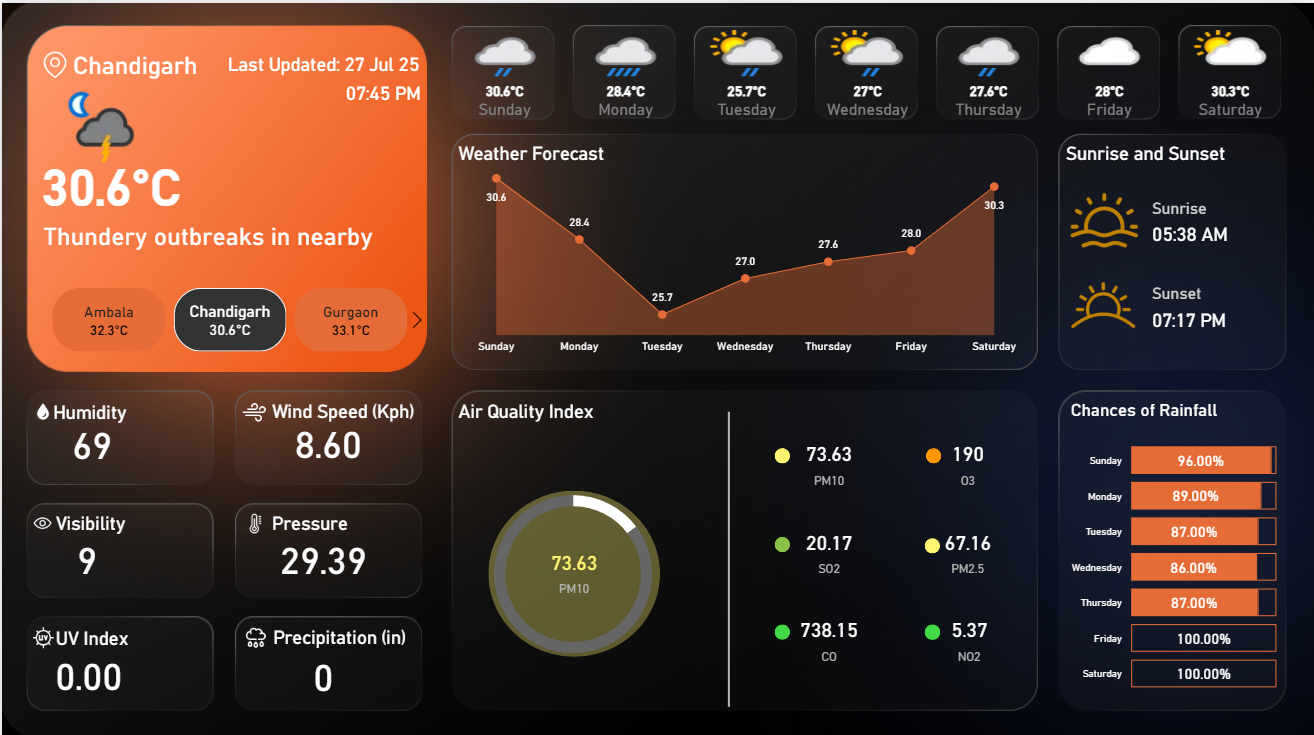

What the dashboard file says about the page in this screenshot:
{"tool":"powerbi","page":{"name":"Page 1","canvas":[1280,720],"ordinal":0},"visuals":[{"type":"shape","box":[39.5,149,143.9,61.1],"z":0},{"type":"shape","box":[40.1,210,355.4,35.7],"z":1000},{"type":"shape","box":[69.3,42.5,148.2,35.7],"z":2000},{"type":"image","box":[34.3,42.2,35,35.8],"z":3000},{"type":"shape","box":[143.4,42.5,263.5,35.7],"z":4000},{"type":"shape","box":[50,381.2,85.6,35],"z":5000},{"type":"image","box":[26.9,385.6,26.9,26.9],"z":6000},{"type":"shape","box":[263.1,380.6,143.2,35.5],"z":7000},{"type":"image","box":[229.2,381.2,33.8,35],"z":8000},{"type":"shape","box":[263.1,490,101.2,35],"z":9000},{"type":"image","box":[232.5,492.5,29.4,30],"z":10000},{"type":"shape","box":[51.9,490,101.2,35],"z":11000},{"type":"image","box":[23.8,492.5,32.5,30],"z":12000},{"type":"image","box":[23,604,34,31],"z":13000},{"type":"image","box":[229,603,36,34],"z":14000},{"type":"image","box":[1028.5,245.5,93.2,99.4],"z":15000},{"type":"image","box":[1037.3,172.5,75.5,79.3],"z":16000},{"type":"shape","box":[264.4,602.2,142,34.3],"z":17000},{"type":"shape","box":[52.9,602,101.2,35],"z":18000},{"type":"card","fields":{"Values":["Sum(CurrentData.current.humidity)"]},"box":[40.4,394.1,95.5,69.8],"z":19000},{"type":"card","fields":{"Values":["Sum(CurrentData.current.wind_kph)"]},"box":[247.2,392.9,142,71],"z":20000},{"type":"card","fields":{"Values":["Sum(CurrentData.current.pressure_in)"]},"box":[242.3,505.5,142,71],"z":21000},{"type":"card","fields":{"Values":["Sum(CurrentData.current.vis_km)"]},"box":[30.6,507.9,105.3,64.9],"z":22000},{"type":"card","fields":{"Values":["Sum(CurrentData.current.precip_in)"]},"box":[242.3,619.3,142,71],"z":23000},{"type":"card","fields":{"Values":["Sum(CurrentData.current.uv)"]},"box":[34.3,621.8,101.6,64.9],"z":24000},{"type":"shape","box":[144.4,71,264.4,35.5],"z":25000},{"type":"advancedSlicerVisual","fields":{"Values":["ForecastData_ByDay.DayName"]},"box":[430.8,0,831.1,131],"z":26000},{"type":"lineChart","title":"Weather Forecast","fields":{"Category":["ForecastData_ByDay.DayName"],"Y":["Sum(ForecastData_ByDay.forecast.forecastday.day.avgtemp_c)"]},"box":[444.6,146.5,560.5,203.8],"z":27000},{"type":"shape","box":[1037.3,128.4,211.5,36.5],"z":28000},{"type":"shape","box":[444.6,128.7,147.8,35.7],"z":29000},{"type":"shape","box":[1122,182.2,63.9,36.2],"z":30000},{"type":"shape","box":[1122,264.2,63.9,36.2],"z":31000},{"type":"shape","box":[1122,207.5,79.6,37.4],"z":32000},{"type":"shape","box":[1122,292,79.6,36.2],"z":33000},{"type":"hundredPercentStackedBarChart","title":"Chances of Rainfall","fields":{"Y":["Sum(ForecastData_ByDay.forecast.forecastday.day.daily_chance_of_rain)","_Measures.left_rain_value"],"Category":["ForecastData_ByDay.DayName"]},"box":[1037.8,386.1,210.7,300.9],"z":34000},{"type":"advancedSlicerVisual","fields":{"Values":["Location.location.name"]},"box":[24.2,272.6,396.2,72.6],"z":35000},{"type":"cardVisual","fields":{"Data":["Min(CurrentData.current.condition.icon)"]},"box":[39.5,65,108.3,103.2],"z":36000},{"type":"shape","box":[444.6,380.9,147.8,35.7],"z":37000},{"type":"shape","box":[680.3,398.7,57.3,287.9],"z":38000},{"type":"cardVisual","fields":{"Data":["Sum(CurrentData.current.air_quality.o3)"]},"box":[879,412.7,126.1,73.9],"z":39000},{"type":"cardVisual","fields":{"Data":["Sum(CurrentData.current.air_quality.pm2_5)"]},"box":[879,499.4,126.1,73.9],"z":40000},{"type":"cardVisual","fields":{"Data":["Sum(CurrentData.current.air_quality.no2)"]},"box":[880.3,584.7,126.1,73.9],"z":41000},{"type":"cardVisual","fields":{"Data":["Sum(CurrentData.current.air_quality.pm10)"]},"box":[744,412.7,126.1,73.9],"z":42000},{"type":"cardVisual","fields":{"Data":["Sum(CurrentData.current.air_quality.so2)"]},"box":[744,499.4,126.1,73.9],"z":43000},{"type":"cardVisual","fields":{"Data":["Sum(CurrentData.current.air_quality.co)"]},"box":[744,584.7,126.1,73.9],"z":44000},{"type":"shape","box":[754.1,434.4,15.3,15.3],"z":45000},{"type":"shape","box":[754.1,606.4,15.3,15.3],"z":46000},{"type":"shape","box":[754.1,521,15.3,15.3],"z":47000},{"type":"shape","box":[900,606.1,15.6,15.6],"z":48000},{"type":"shape","box":[900,521.4,15.3,15.3],"z":49000},{"type":"shape","box":[901,433.7,15.3,15.3],"z":50000},{"type":"shape","box":[473.8,475.4,167.7,162.3],"z":51000},{"type":"donutChart","fields":{"Y":["Sum(CurrentData.current.air_quality.pm10)","_Measures.Left_Value_PM10"]},"box":[455.8,455.8,202.6,202.6],"z":52000},{"type":"cardVisual","fields":{"Data":["Sum(CurrentData.current.air_quality.pm10)"]},"box":[511.7,518.2,92.2,76.6],"z":52500}]}

Visuals, with their boxes in screenshot pixels (x1, y1, x2, y2), scaled from the page's 1280x720 canvas onto the 1314x735 screenshot:
shape: BBox(41, 152, 188, 214)
shape: BBox(41, 214, 406, 251)
shape: BBox(71, 43, 223, 80)
image: BBox(35, 43, 71, 80)
shape: BBox(147, 43, 418, 80)
shape: BBox(51, 389, 139, 425)
image: BBox(28, 394, 55, 421)
shape: BBox(270, 389, 417, 425)
image: BBox(235, 389, 270, 425)
shape: BBox(270, 500, 374, 536)
image: BBox(239, 503, 269, 533)
shape: BBox(53, 500, 157, 536)
image: BBox(24, 503, 58, 533)
image: BBox(24, 617, 59, 648)
image: BBox(235, 616, 272, 650)
image: BBox(1056, 251, 1151, 352)
image: BBox(1065, 176, 1142, 257)
shape: BBox(271, 615, 417, 650)
shape: BBox(54, 615, 158, 650)
card - Sum(CurrentData.current.humidity): BBox(41, 402, 140, 474)
card - Sum(CurrentData.current.wind_kph): BBox(254, 401, 400, 474)
card - Sum(CurrentData.current.pressure_in): BBox(249, 516, 395, 589)
card - Sum(CurrentData.current.vis_km): BBox(31, 518, 140, 585)
card - Sum(CurrentData.current.precip_in): BBox(249, 632, 395, 705)
card - Sum(CurrentData.current.uv): BBox(35, 635, 140, 701)
shape: BBox(148, 72, 420, 109)
advancedSlicerVisual - ForecastData_ByDay.DayName: BBox(442, 0, 1295, 134)
"Weather Forecast" lineChart: BBox(456, 150, 1032, 358)
shape: BBox(1065, 131, 1282, 168)
shape: BBox(456, 131, 608, 168)
shape: BBox(1152, 186, 1217, 223)
shape: BBox(1152, 270, 1217, 307)
shape: BBox(1152, 212, 1234, 250)
shape: BBox(1152, 298, 1234, 335)
"Chances of Rainfall" hundredPercentStackedBarChart: BBox(1065, 394, 1282, 701)
advancedSlicerVisual - Location.location.name: BBox(25, 278, 432, 352)
cardVisual - Min(CurrentData.current.condition.icon): BBox(41, 66, 152, 172)
shape: BBox(456, 389, 608, 425)
shape: BBox(698, 407, 757, 701)
cardVisual - Sum(CurrentData.current.air_quality.o3): BBox(902, 421, 1032, 497)
cardVisual - Sum(CurrentData.current.air_quality.pm2_5): BBox(902, 510, 1032, 585)
cardVisual - Sum(CurrentData.current.air_quality.no2): BBox(904, 597, 1033, 672)
cardVisual - Sum(CurrentData.current.air_quality.pm10): BBox(764, 421, 893, 497)
cardVisual - Sum(CurrentData.current.air_quality.so2): BBox(764, 510, 893, 585)
cardVisual - Sum(CurrentData.current.air_quality.co): BBox(764, 597, 893, 672)
shape: BBox(774, 443, 790, 459)
shape: BBox(774, 619, 790, 635)
shape: BBox(774, 532, 790, 547)
shape: BBox(924, 619, 940, 635)
shape: BBox(924, 532, 940, 548)
shape: BBox(925, 443, 941, 458)
shape: BBox(486, 485, 659, 651)
donutChart - Sum(CurrentData.current.air_quality.pm10) x _Measures.Left_Value_PM10: BBox(468, 465, 676, 672)
cardVisual - Sum(CurrentData.current.air_quality.pm10): BBox(525, 529, 620, 607)
